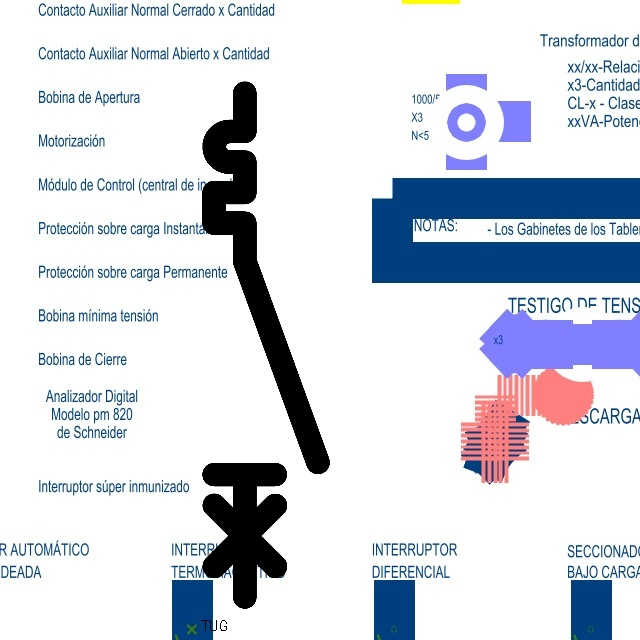interruptor_termomagnetico: (201, 80, 330, 610)
